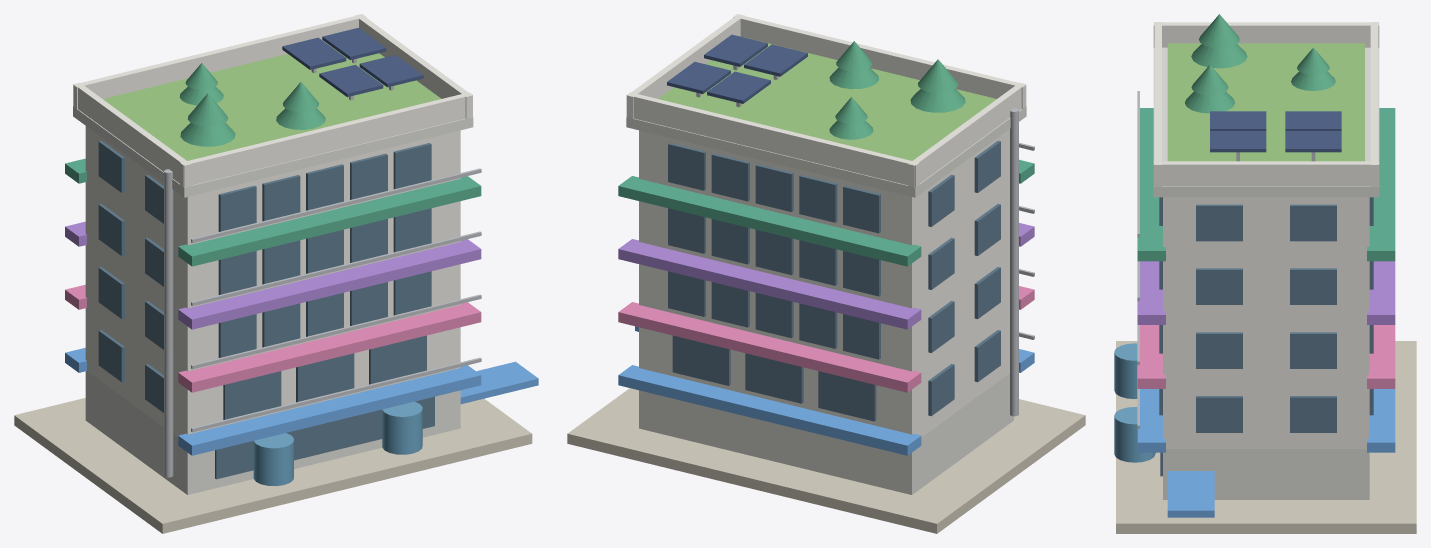
Rendered from welnova-school.glb.
The picture shows the model from 3 angles, left to right: view 1: azimuth 30°, elevation 25°; view 2: azimuth 150°, elevation 25°; view 3: azimuth 270°, elevation 25°; orthographic projection.
Visible parts, largest first — view 1: WELNOVA Eco-Future School; view 2: WELNOVA Eco-Future School; view 3: WELNOVA Eco-Future School.
Boxes of the visible parts, left/top/right/bottom form: WELNOVA Eco-Future School: left=14, top=14, right=538, bottom=533; WELNOVA Eco-Future School: left=567, top=14, right=1085, bottom=533; WELNOVA Eco-Future School: left=1114, top=14, right=1416, bottom=533.
Size of the model in its own units: 0.5 by 0.452 by 0.322.
